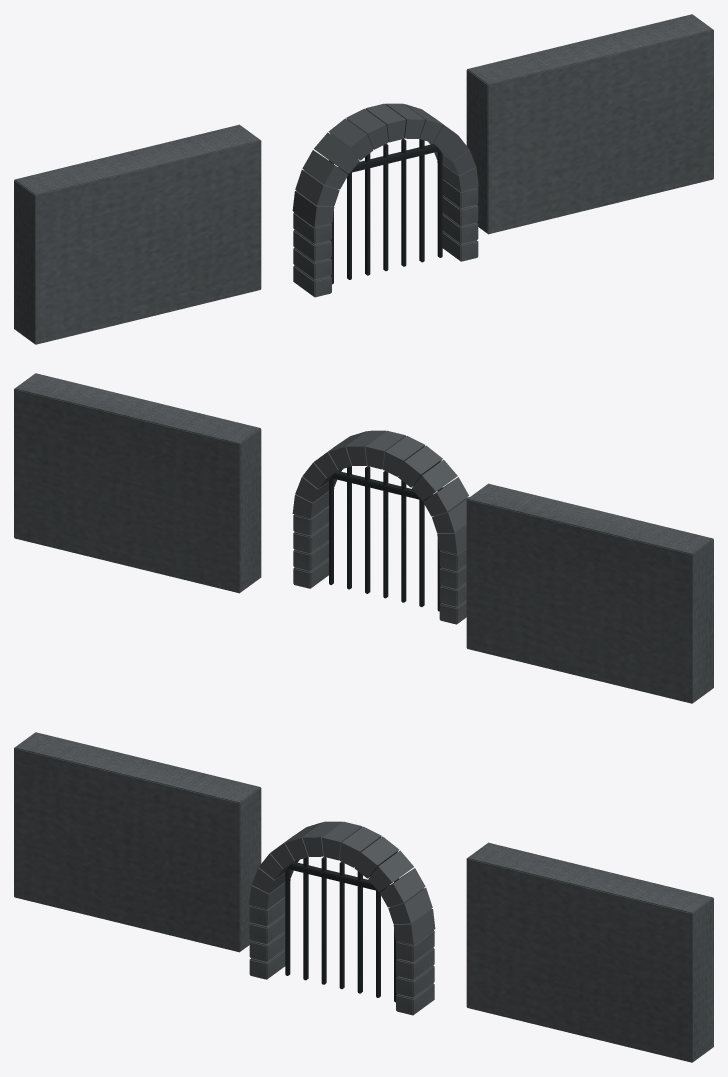
The model's file is dungeonDoor-v1.glb.
3 renders of one model, top to bottom at view 1: azimuth 30°, elevation 25°; view 2: azimuth 150°, elevation 25°; view 3: azimuth 330°, elevation 25°, orthographic.
Parts seen in each view (by area): view 1: Rear chamber wall left, Rear chamber wall right, Masonry arch 0 pier, Portcullis crossbar, Gate bar 1, Gate bar 0, Gate bar 2, Gate bar -1, Gate bar 3, Gate bar -2; view 2: Rear chamber wall left, Rear chamber wall right, Masonry arch 0 pier, Portcullis crossbar, Gate bar 1, Gate bar 0, Gate bar -1, Gate bar -2, Gate bar 2, Gate bar 3; view 3: Rear chamber wall right, Rear chamber wall left, Masonry arch 0 pier, Portcullis crossbar, Gate bar -1, Gate bar 0, Gate bar -2, Gate bar 1, Gate bar -3, Gate bar 2.
Part boxes in pixels (bbox=[...]): Rear chamber wall left: bbox=[14, 124, 261, 344]; Rear chamber wall right: bbox=[466, 14, 713, 234]; Masonry arch 0 pier: bbox=[292, 103, 478, 297]; Portcullis crossbar: bbox=[338, 144, 440, 173]; Gate bar 1: bbox=[401, 139, 406, 266]; Gate bar 0: bbox=[383, 144, 388, 271]; Gate bar 2: bbox=[419, 139, 424, 262]; Gate bar -1: bbox=[365, 153, 370, 275]; Gate bar 3: bbox=[437, 151, 442, 257]; Gate bar -2: bbox=[347, 172, 351, 279]; Rear chamber wall left: bbox=[466, 483, 713, 703]; Rear chamber wall right: bbox=[14, 373, 261, 593]; Masonry arch 0 pier: bbox=[292, 430, 469, 624]; Portcullis crossbar: bbox=[331, 471, 433, 500]; Gate bar 1: bbox=[365, 466, 370, 593]; Gate bar 0: bbox=[383, 471, 388, 598]; Gate bar -1: bbox=[401, 480, 406, 602]; Gate bar -2: bbox=[419, 499, 424, 606]; Gate bar 2: bbox=[347, 466, 351, 589]; Gate bar 3: bbox=[329, 478, 333, 584]; Rear chamber wall right: bbox=[466, 842, 713, 1062]; Rear chamber wall left: bbox=[14, 732, 261, 952]; Masonry arch 0 pier: bbox=[249, 821, 435, 1015]; Portcullis crossbar: bbox=[287, 862, 389, 891]; Gate bar -1: bbox=[321, 857, 326, 984]; Gate bar 0: bbox=[339, 862, 344, 989]; Gate bar -2: bbox=[303, 857, 308, 980]; Gate bar 1: bbox=[357, 871, 362, 993]; Gate bar -3: bbox=[285, 869, 290, 975]; Gate bar 2: bbox=[376, 890, 380, 997].
Size of what is drawn, in the model's own units: 18 by 3.97 by 2.
11 materials, 11 textured.
